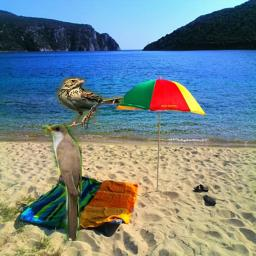Cuckoo: (42, 124, 82, 241)
Sparrow: (53, 77, 124, 131)
